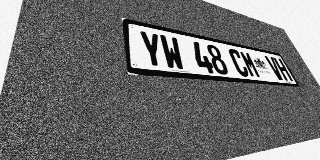4: (190, 40, 215, 74)
8: (205, 43, 230, 75)
C: (227, 48, 251, 77)
H: (273, 57, 293, 81)
M: (239, 50, 262, 78)
V: (264, 55, 285, 80)
W: (159, 34, 186, 71)
Y: (138, 30, 166, 69)
